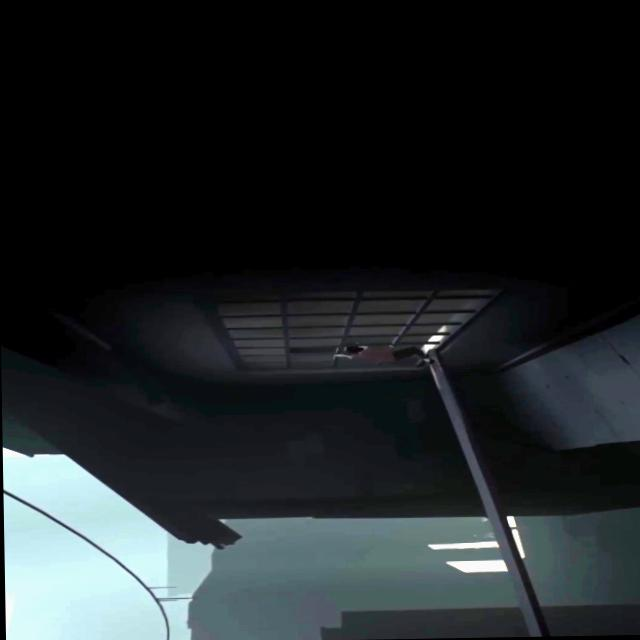boy: (330, 342, 438, 368)
